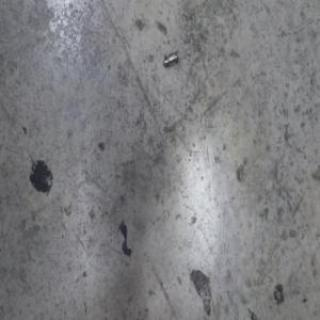Bolttrack_idkeyframe: (163, 48, 179, 68)
